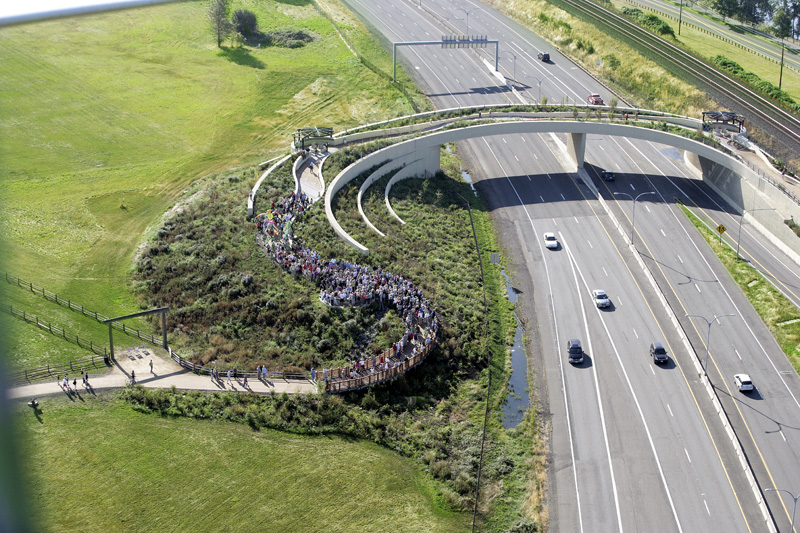bridge: (341, 98, 753, 187)
